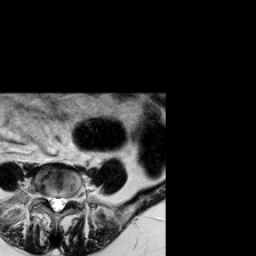CCS_normal: (53, 185, 59, 220)
LFS_stenosis: (67, 186, 73, 207)
LLS_normal: (59, 189, 67, 215)
RFS_stenosis: (41, 185, 47, 205)
RLS_normal: (47, 187, 53, 211)
